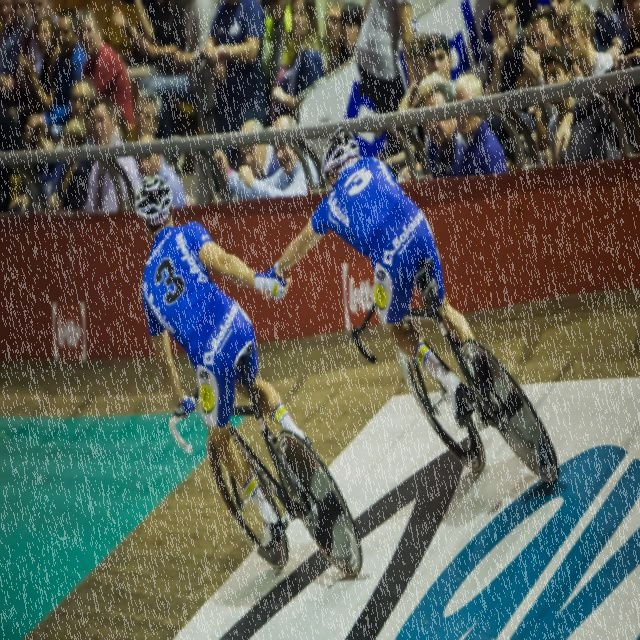pessoa: (254, 118, 504, 434), (128, 166, 318, 560), (482, 0, 640, 169), (0, 0, 94, 218), (6, 75, 98, 212), (262, 0, 362, 119), (136, 0, 218, 143), (204, 0, 268, 175), (354, 0, 415, 181), (540, 44, 622, 168), (212, 112, 321, 198), (74, 6, 137, 142), (27, 8, 90, 144), (81, 94, 141, 212), (447, 72, 507, 176), (415, 70, 467, 178), (106, 0, 187, 67), (46, 117, 96, 211), (136, 132, 187, 207), (130, 84, 166, 188), (236, 116, 284, 180), (402, 28, 452, 89)
